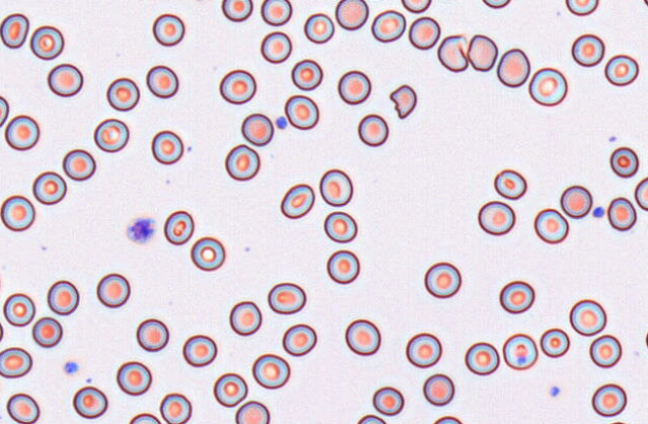PLT: (126, 216, 157, 245), (63, 359, 80, 375), (275, 115, 288, 129), (550, 385, 562, 398), (593, 206, 606, 217)
RBC: (528, 67, 567, 106), (569, 298, 606, 336), (251, 353, 290, 389), (344, 318, 381, 355), (424, 261, 461, 298), (224, 143, 260, 181), (405, 332, 442, 368), (477, 200, 515, 235), (496, 48, 530, 87), (533, 208, 569, 244), (0, 194, 35, 231), (219, 69, 256, 104), (502, 333, 537, 370), (319, 168, 353, 206), (4, 114, 39, 150), (116, 360, 152, 395), (284, 94, 319, 130), (267, 282, 306, 314), (213, 372, 248, 407), (29, 25, 64, 60), (190, 236, 225, 271), (47, 63, 83, 97), (93, 118, 129, 152), (591, 383, 627, 417), (96, 272, 130, 308), (464, 341, 499, 375), (337, 69, 371, 104), (280, 183, 314, 218), (499, 280, 534, 314), (72, 385, 108, 418), (32, 171, 66, 205), (371, 9, 406, 42), (229, 300, 262, 335), (182, 334, 217, 367), (326, 249, 359, 284), (2, 292, 35, 326), (62, 148, 96, 181), (282, 323, 316, 356), (323, 210, 357, 243), (571, 33, 604, 67), (106, 77, 139, 111), (589, 334, 622, 368), (151, 129, 183, 164), (47, 280, 79, 315), (604, 54, 639, 86), (136, 318, 169, 351), (560, 184, 592, 218), (241, 112, 273, 146), (493, 168, 527, 200), (146, 64, 178, 98), (163, 210, 194, 245), (408, 16, 440, 49), (422, 373, 454, 406), (152, 13, 184, 46), (6, 392, 40, 423), (0, 346, 32, 378), (291, 58, 323, 90), (159, 392, 192, 423), (357, 113, 388, 146), (334, 0, 368, 30), (607, 197, 637, 231), (0, 13, 29, 48), (260, 31, 291, 63), (303, 12, 334, 43), (372, 386, 404, 416), (609, 146, 639, 178), (32, 316, 62, 347), (539, 327, 570, 357), (234, 400, 270, 424), (260, 0, 292, 26), (221, 0, 252, 21), (565, 0, 599, 16), (634, 176, 648, 211), (400, 0, 431, 13), (128, 412, 161, 423), (355, 414, 386, 424), (0, 95, 9, 127), (431, 415, 463, 424), (482, 0, 511, 8), (602, 420, 633, 424), (645, 325, 648, 356), (0, 320, 4, 343), (0, 270, 3, 296), (643, 0, 648, 7)
Schistocyte: (468, 30, 499, 72), (437, 34, 469, 72), (389, 84, 417, 119)
